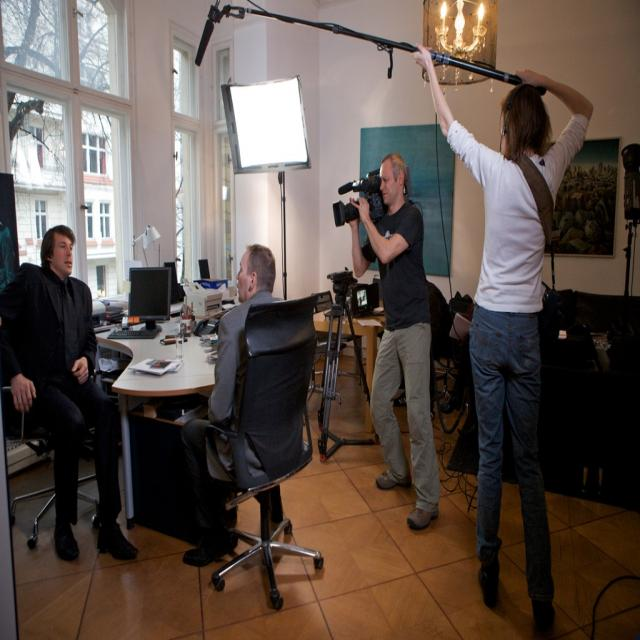chair: (200, 292, 330, 609), (1, 335, 100, 551)
desk: (102, 302, 338, 600)
person: (416, 40, 594, 623), (0, 222, 139, 559), (347, 149, 442, 527), (182, 242, 283, 570)
tv: (221, 74, 311, 172), (127, 266, 172, 322)
